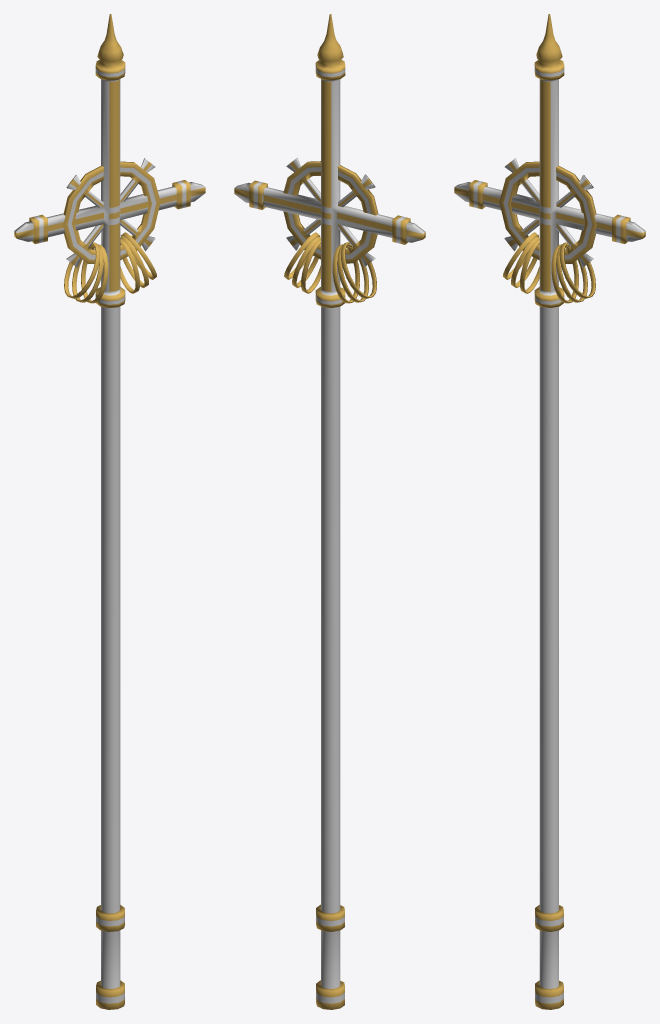
File: quibspear.fbx
The picture shows the model from 3 angles, left to right: view 1: azimuth 30°, elevation 25°; view 2: azimuth 150°, elevation 25°; view 3: azimuth 330°, elevation 25°; orthographic projection.
Visible parts, largest first — view 1: quibspear; view 2: quibspear; view 3: quibspear.
Part boxes in pixels (<box>): quibspear: <box>14,14,205,1009</box>; quibspear: <box>234,14,425,1009</box>; quibspear: <box>454,14,645,1009</box>.
Bounding box in the file's own units: 0.1595 × 0.8002 × 0.0315.
